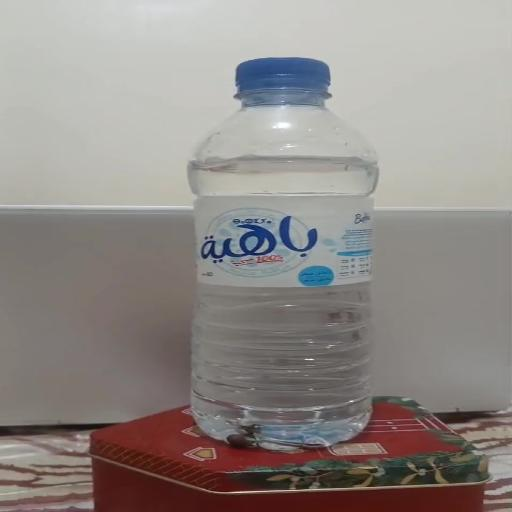bouteille conformite: (191, 54, 392, 446)
